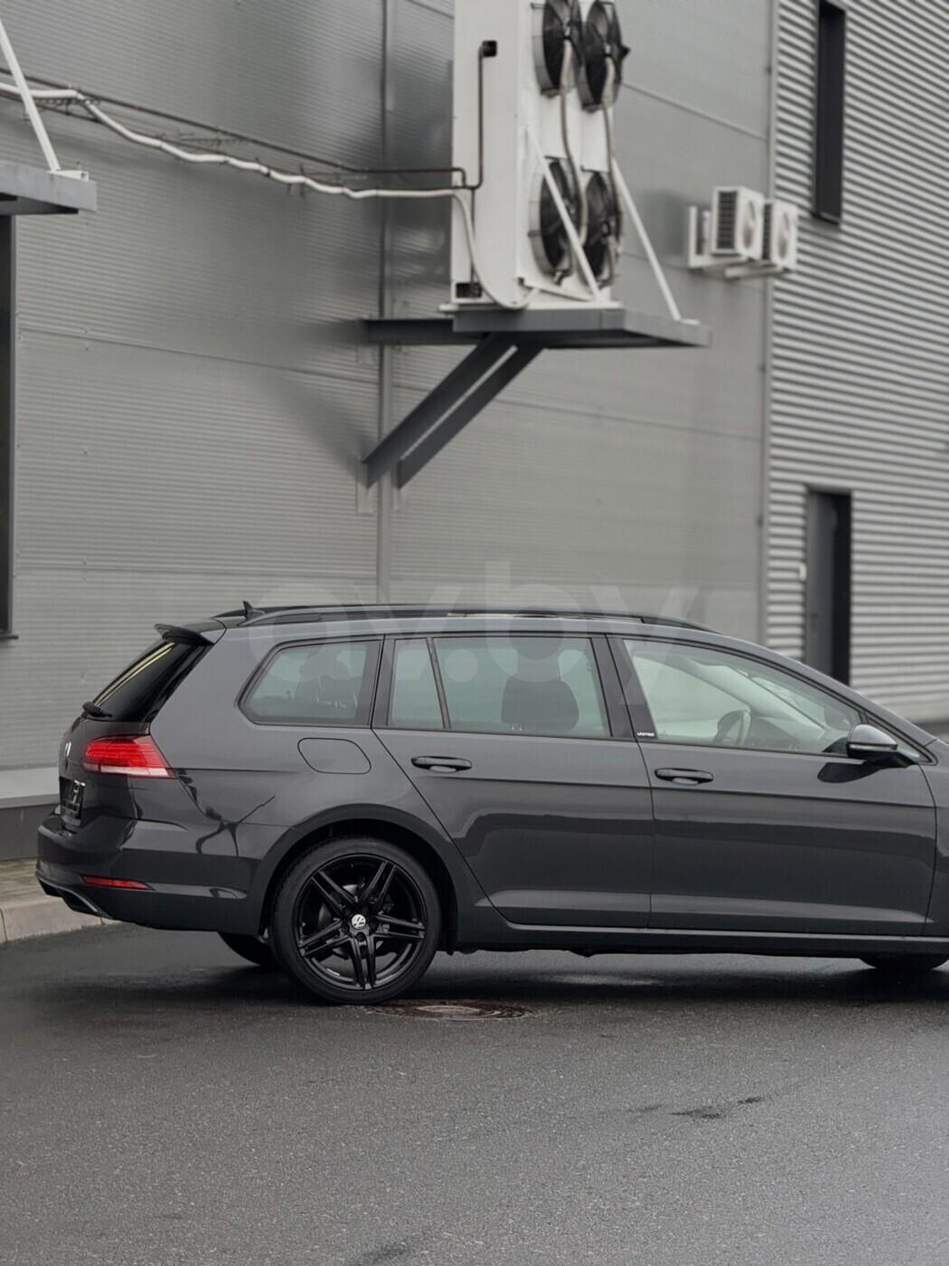Golf_2017-2021: (25, 586, 949, 1013)
